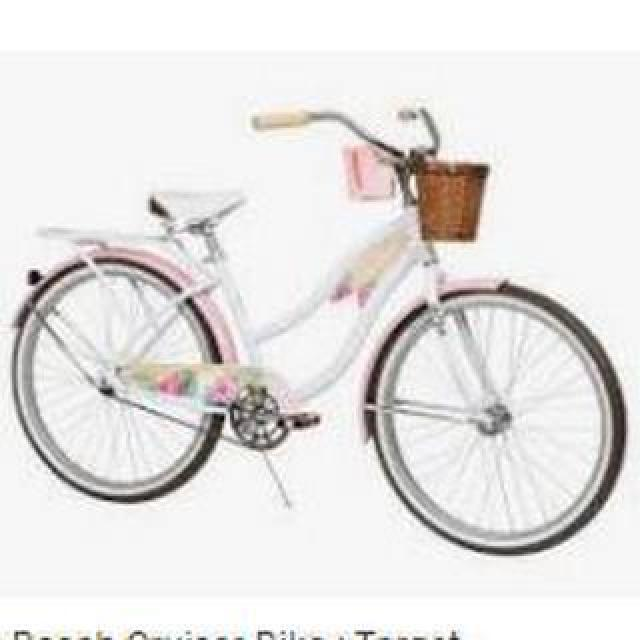Person: (9, 104, 633, 568)
